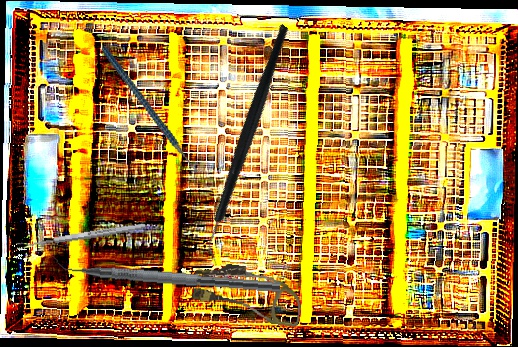Cannula: (189, 259, 306, 328)
Chopper: (136, 23, 362, 267), (101, 28, 210, 195), (48, 249, 282, 294)
Surgical Spoon: (16, 221, 146, 251)
